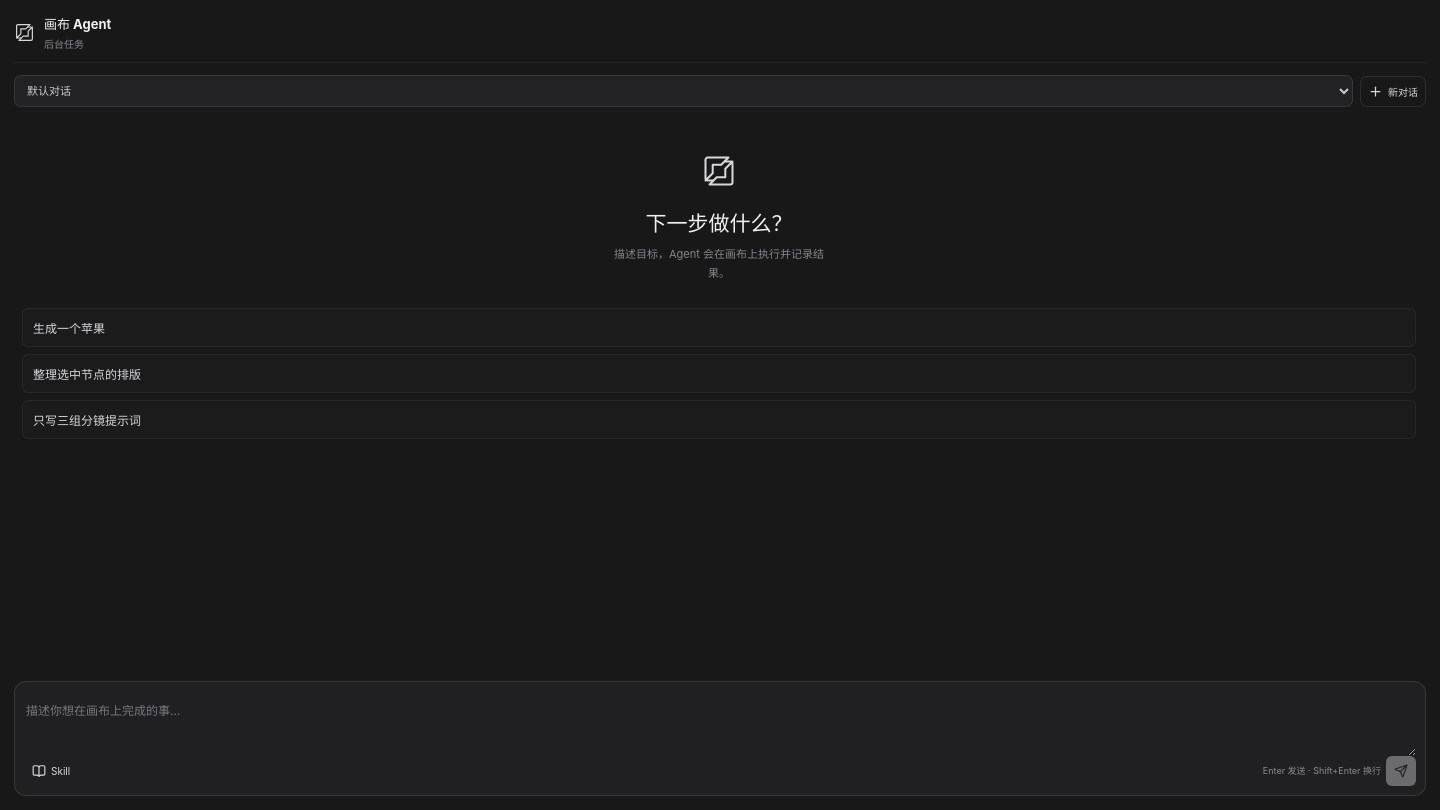
AgentSidebarPanel lifecycle boundaries › retries an uncertain create using the exact persisted request after remount
Later steps or results of the test are not shown.
Step 1. Type "生成苹果" into the text box named "Agent 指令输入框" → {"x": 720, "y": 724}, box [24,691,1416,756]
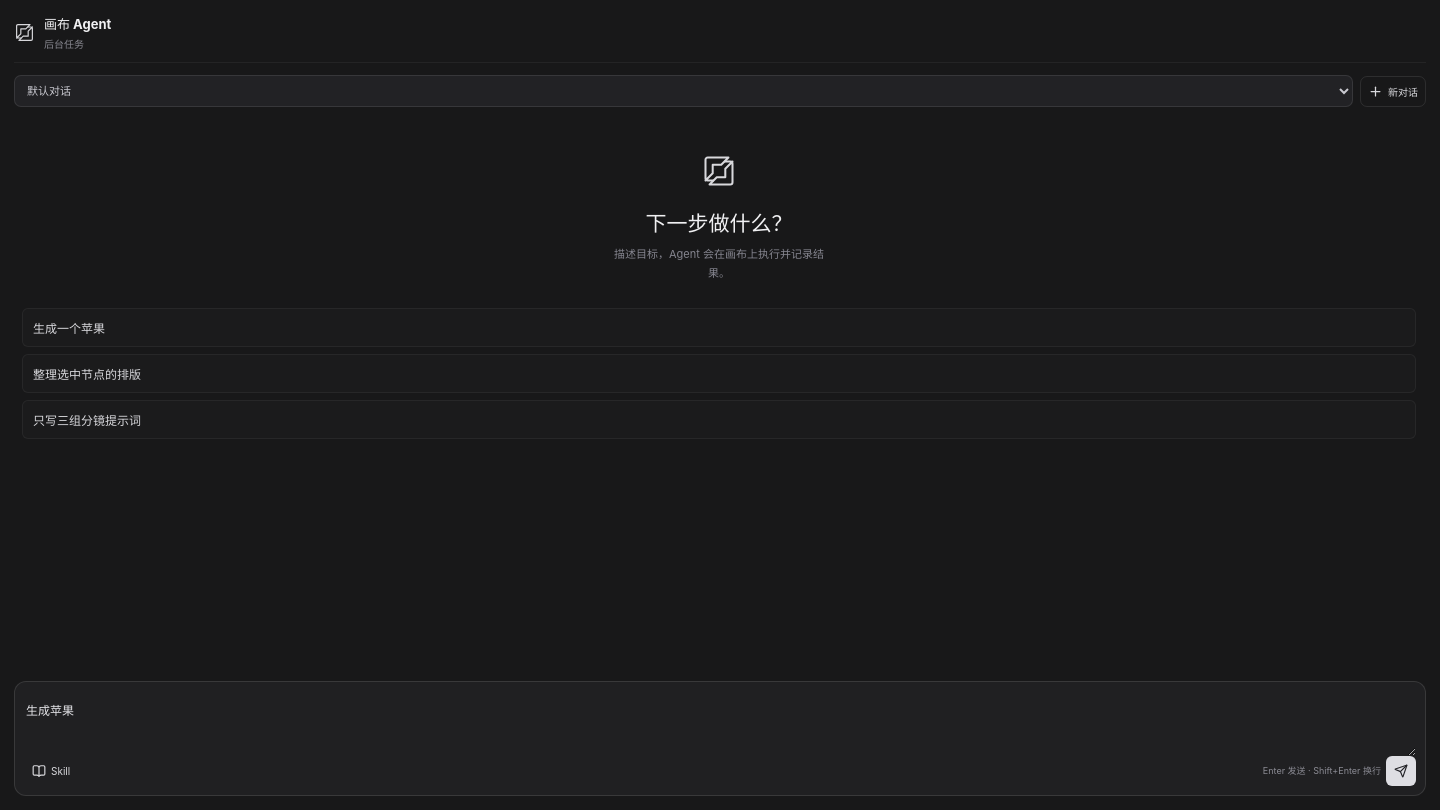
Step 2. Click the button named "发送" → {"x": 1401, "y": 771}, box [1386,756,1416,786]
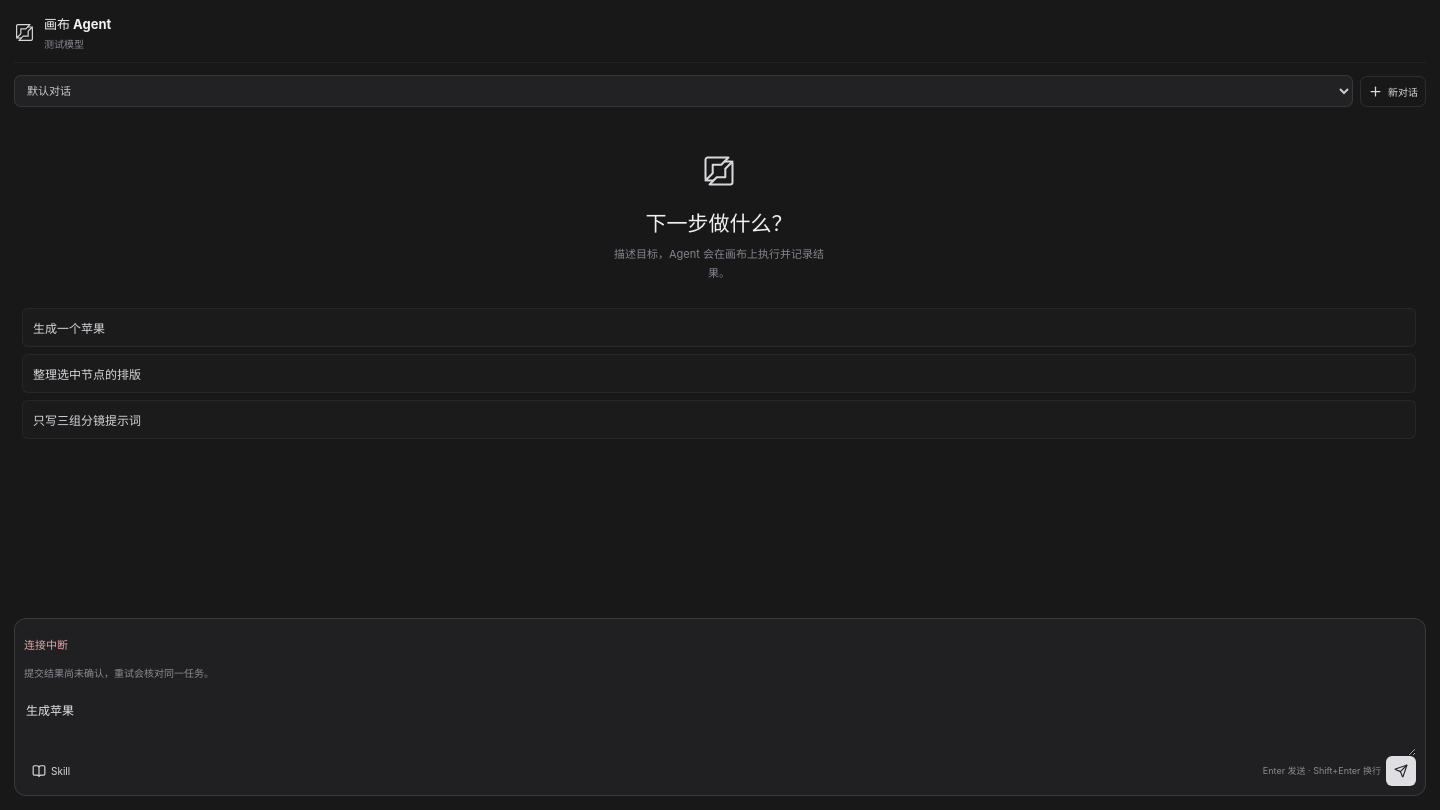
Now the text "连接中断" is shown, box [24,638,68,652]
